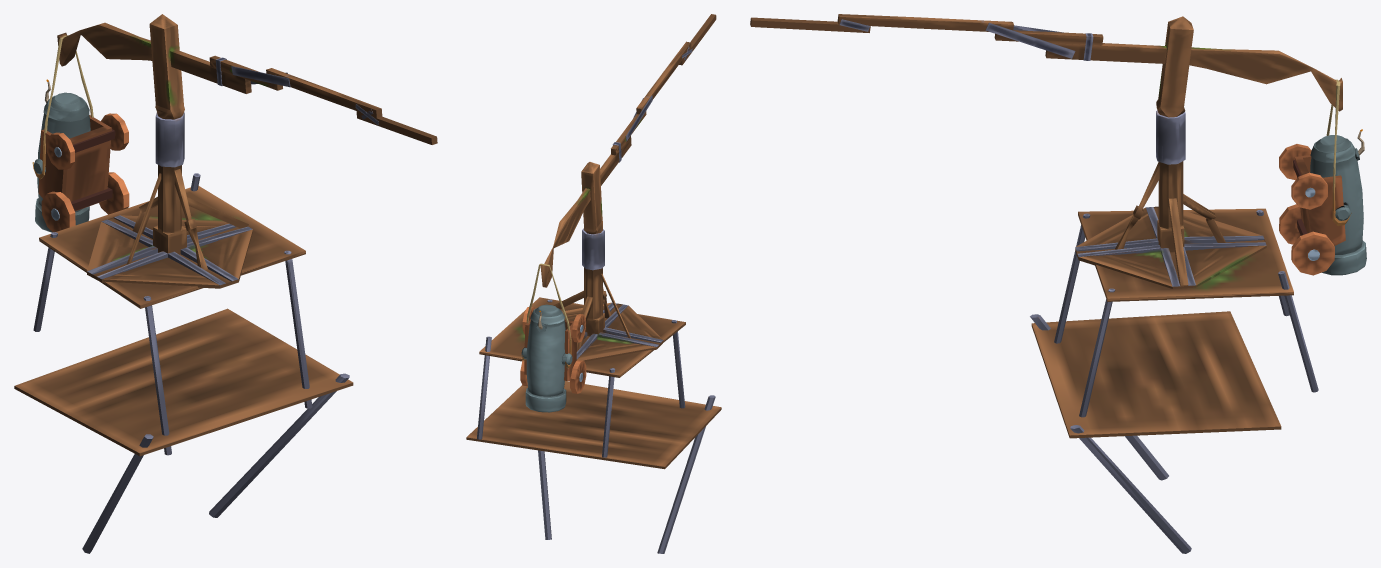
Rendered from crane.fbx.
3 renders of one model, left to right at view 1: azimuth 30°, elevation 25°; view 2: azimuth 150°, elevation 25°; view 3: azimuth 270°, elevation 25°, orthographic. The views are drawn at different scales.
Visible parts, largest first — view 1: Cube.008, Cylinder; view 2: Cube.008, Cylinder; view 3: Cube.008, Cylinder.
Boxes of the visible parts, <box> form: Cube.008: <box>14,14,437,553</box>; Cylinder: <box>33,79,129,232</box>; Cube.008: <box>466,14,721,553</box>; Cylinder: <box>520,304,586,412</box>; Cube.008: <box>750,14,1351,553</box>; Cylinder: <box>1279,129,1366,275</box>.
Size of the model in its own units: 634 by 1270 by 1329.
